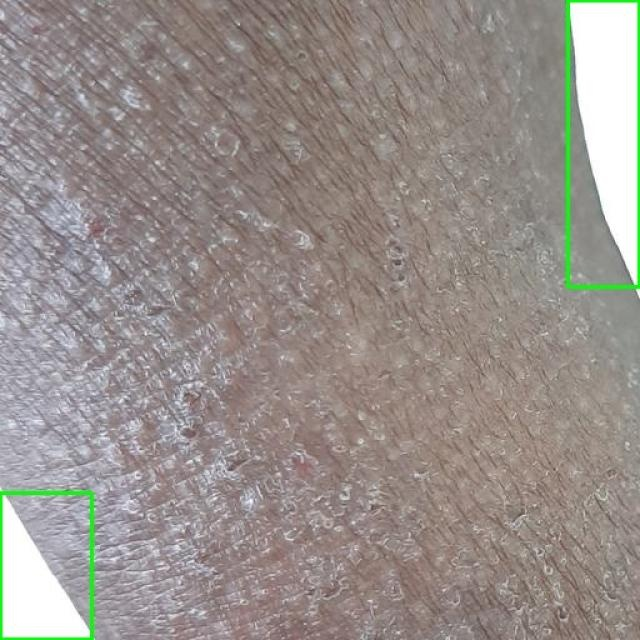Contact Dermatitis: (568, 0, 639, 288), (0, 492, 91, 639)
